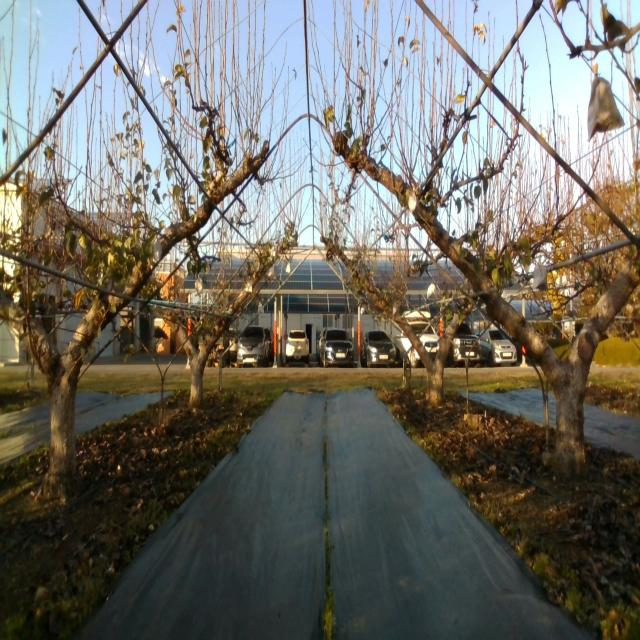pearbags: (588, 76, 624, 142), (533, 264, 547, 290)
